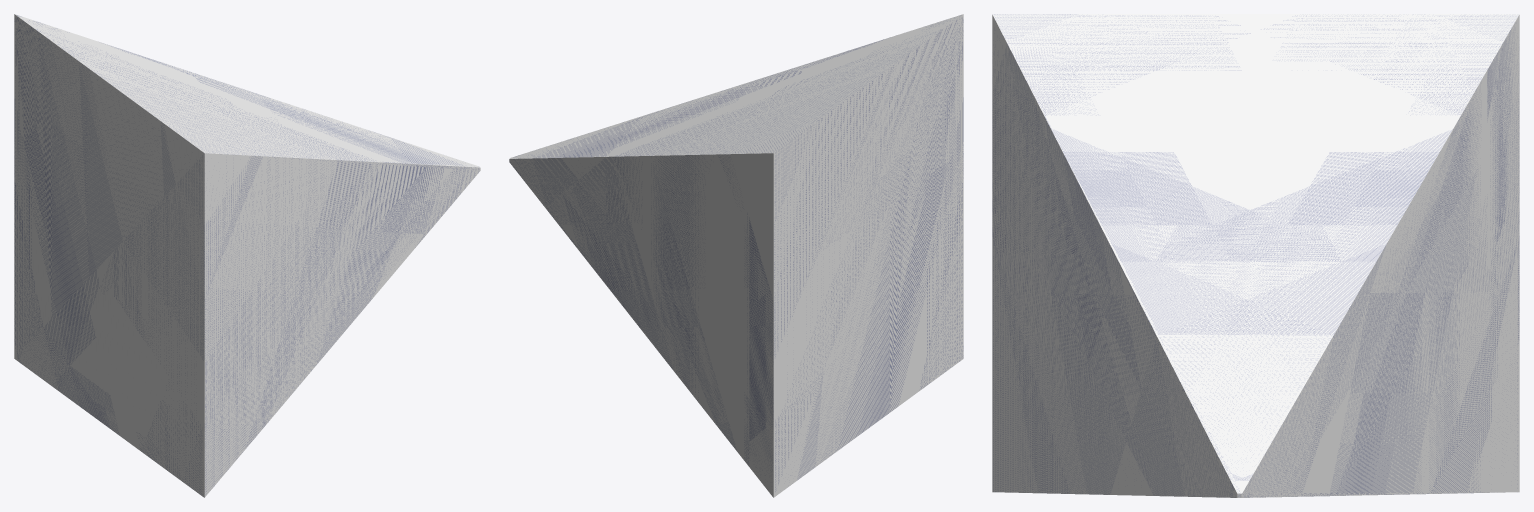
The picture shows the model from 3 angles, left to right: view 1: azimuth 30°, elevation 25°; view 2: azimuth 150°, elevation 25°; view 3: azimuth 270°, elevation 25°; orthographic projection. The views are drawn at different scales.
Visible parts, largest first — view 1: SketchUp; view 2: SketchUp; view 3: SketchUp.
Boxes of the visible parts, x1,y1,x2,y2 form: SketchUp: (14, 14, 480, 497); SketchUp: (509, 14, 963, 497); SketchUp: (992, 14, 1519, 497).
Bounding box in the file's own units: 44.19 × 39.94 × 39.94.
